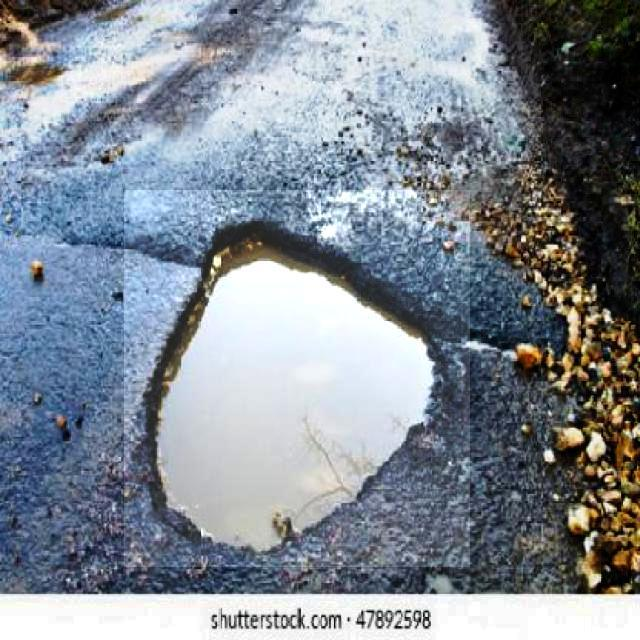pothole: (124, 190, 470, 567)
